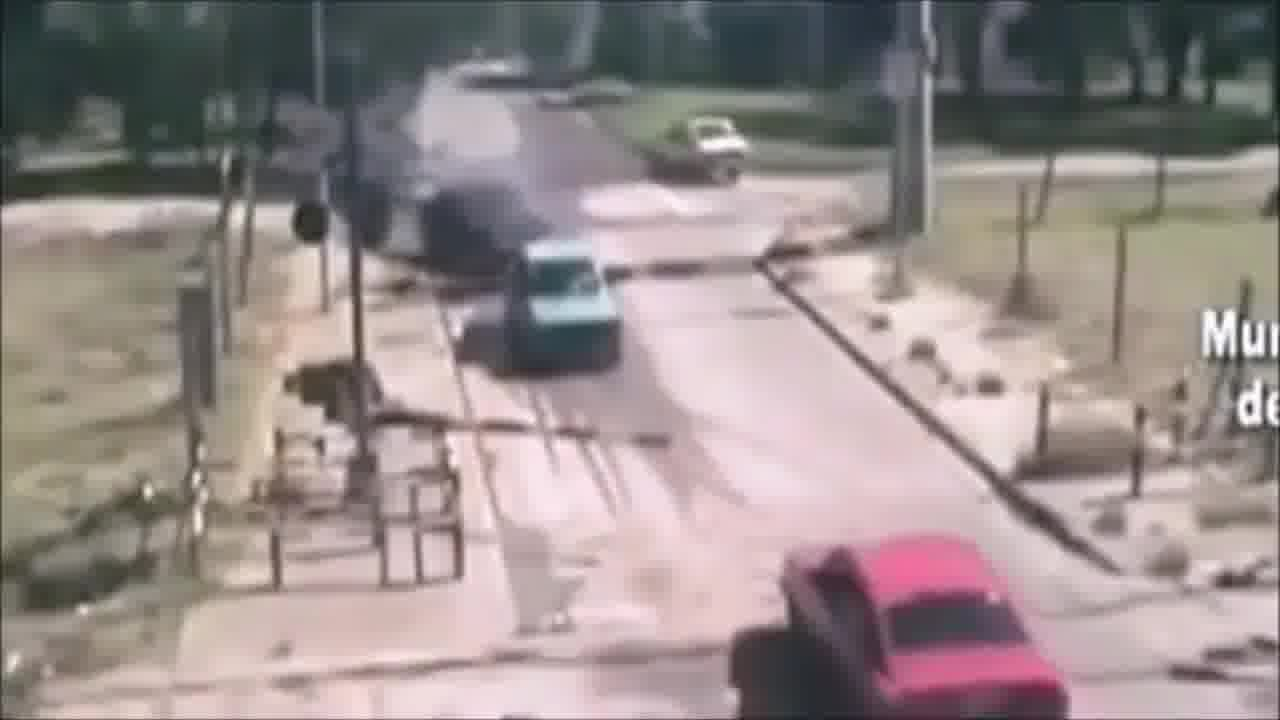crossing railway track: (715, 496, 1165, 719)
